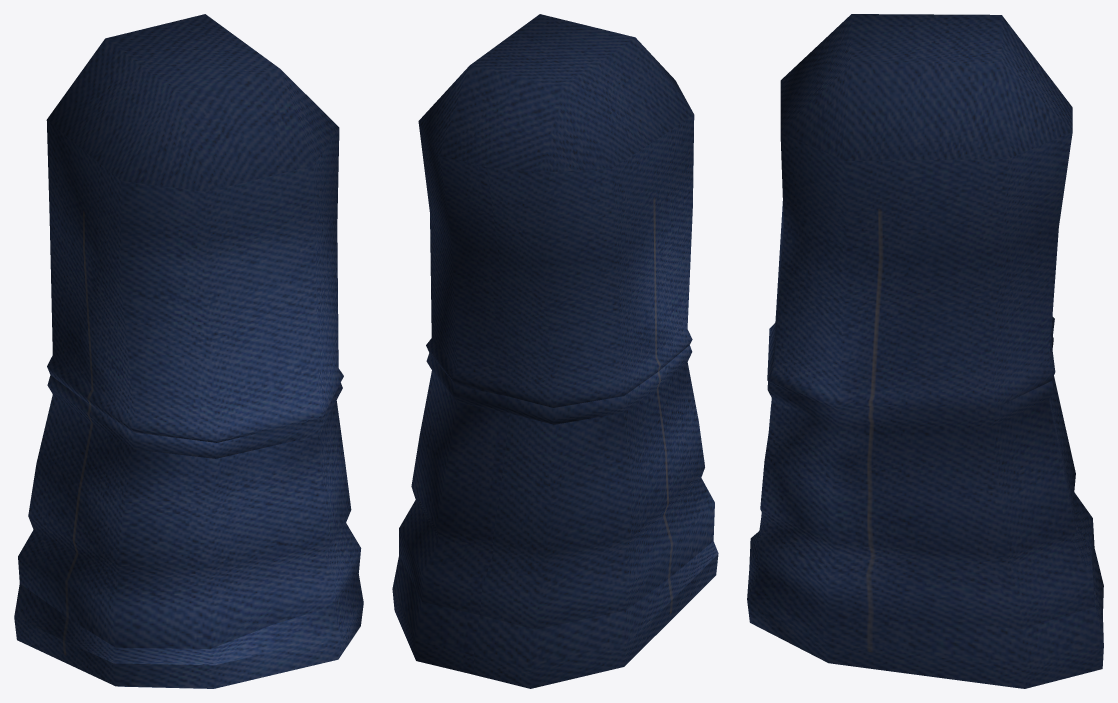
The model's file is leg R.obj.
3 renders of one model, left to right at view 1: azimuth 30°, elevation 25°; view 2: azimuth 150°, elevation 25°; view 3: azimuth 270°, elevation 25°, orthographic. The views are drawn at different scales.
Parts seen in each view (by area): view 1: leg_R; view 2: leg_R; view 3: leg_R.
Boxes of the visible parts, <box> form: leg_R: <box>14,14,363,688</box>; leg_R: <box>392,14,718,688</box>; leg_R: <box>747,14,1103,688</box>.
Size of the model in its own units: 0.8553 by 1.97 by 1.06.
